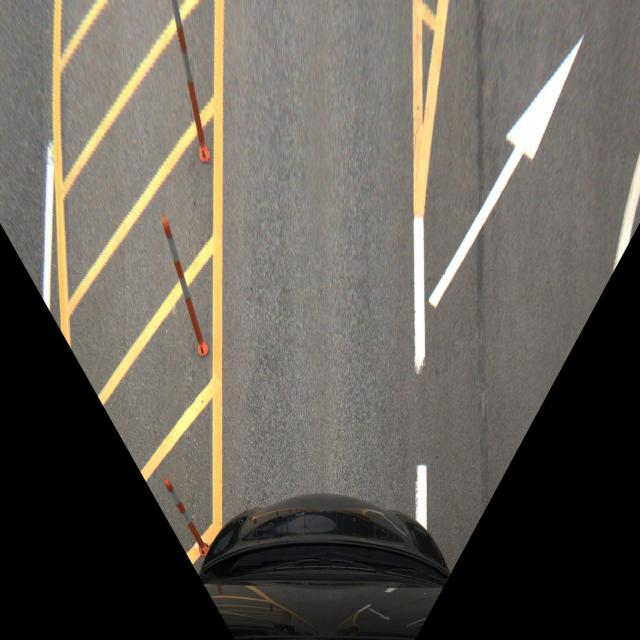yangbo: (197, 492, 451, 639)
